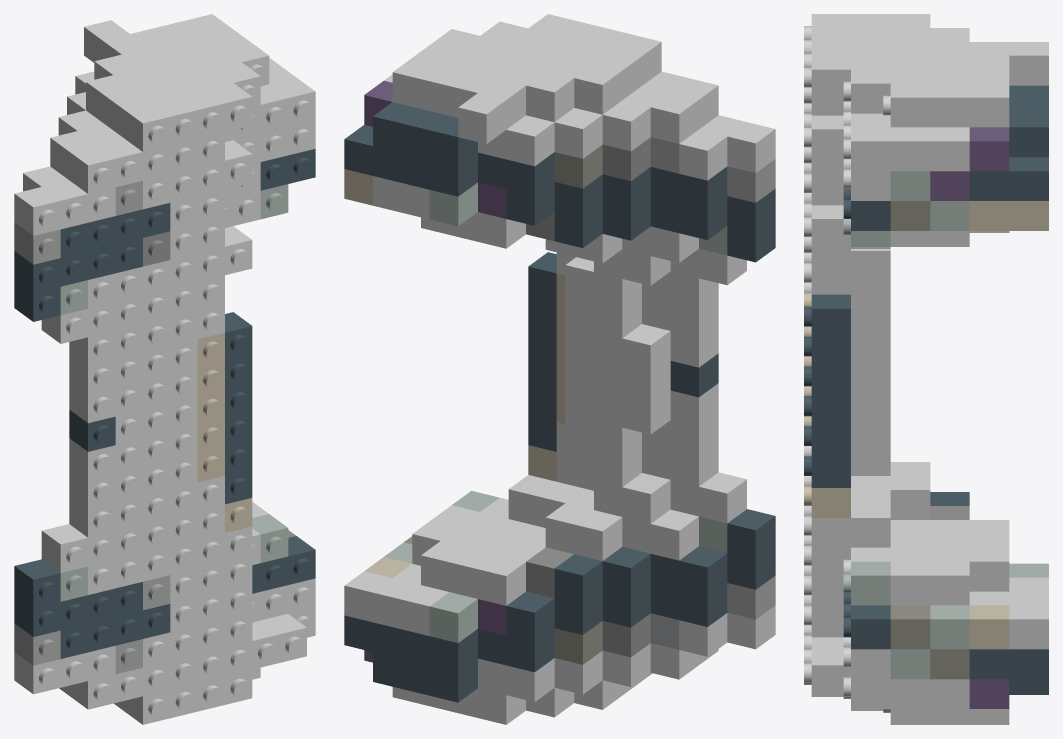
Rendered from full.glb.
The picture shows the model from 3 angles, left to right: view 1: azimuth 30°, elevation 25°; view 2: azimuth 150°, elevation 25°; view 3: azimuth 270°, elevation 25°; orthographic projection. The views are drawn at different scales.
Visible parts, largest first — view 1: world; view 2: world; view 3: world.
Part boxes in pixels (bbox=[...]): world: bbox=[14, 14, 315, 724]; world: bbox=[344, 14, 775, 724]; world: bbox=[804, 14, 1048, 724].
Bounding box in the file's own units: 88 × 168 × 59.4.
